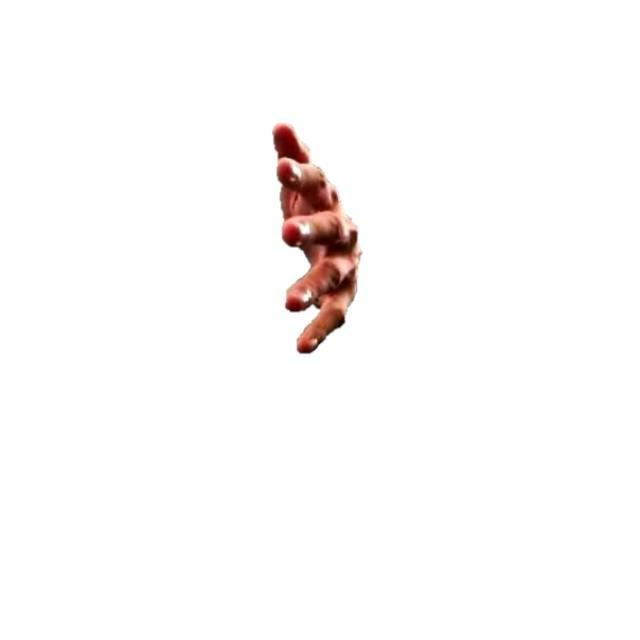pa-: (272, 122, 362, 356)
